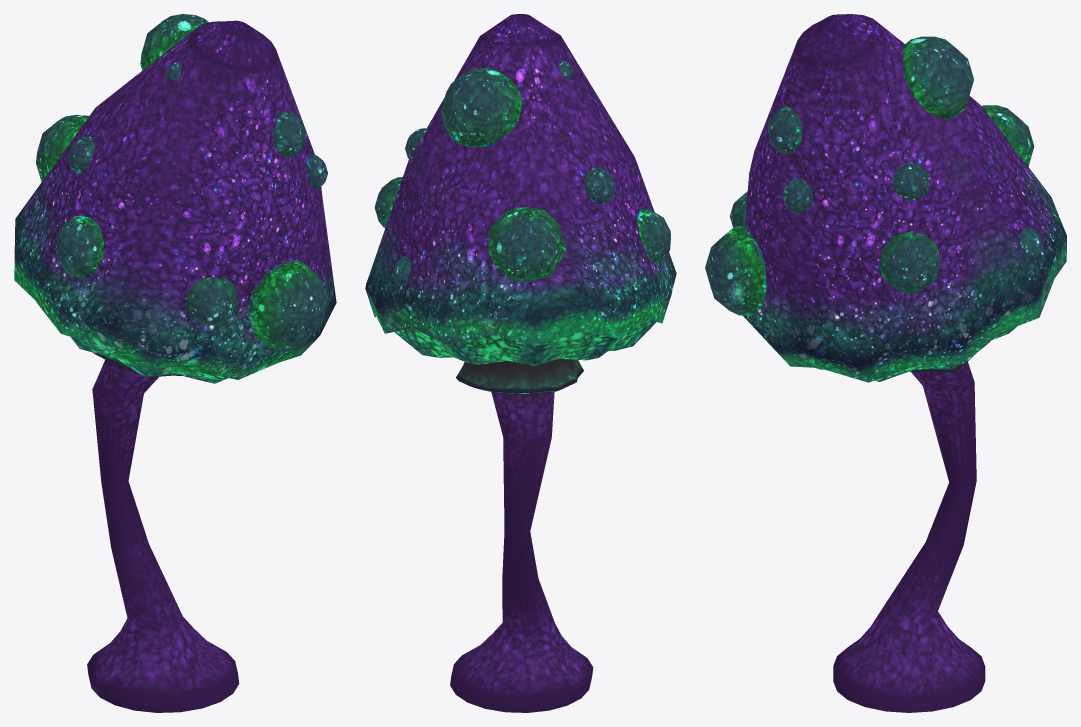
3 views of the same model, side by side, from view 1: azimuth 30°, elevation 25°; view 2: azimuth 150°, elevation 25°; view 3: azimuth 270°, elevation 25° (orthographic). The views are drawn at different scales.
Parts seen in each view (by area): view 1: Mushroom_2_ThinSpeckled; view 2: Mushroom_2_ThinSpeckled; view 3: Mushroom_2_ThinSpeckled.
Part boxes in pixels (<box>): Mushroom_2_ThinSpeckled: <box>14,14,336,712</box>; Mushroom_2_ThinSpeckled: <box>365,14,676,712</box>; Mushroom_2_ThinSpeckled: <box>705,14,1066,712</box>.
Bounding box in the file's own units: 0.4392 × 1 × 0.473.
Materials: 3 (3 with a texture image).
